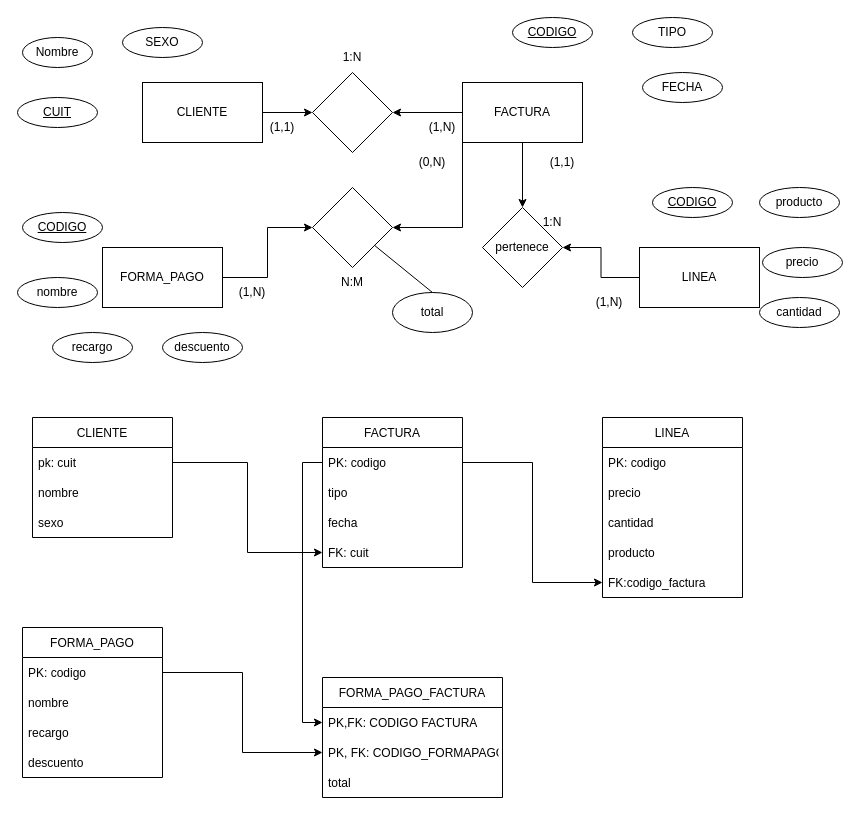
Some shapes in this 860 by 815 pixel diagram are drawn without their labels. Each missing label, with the centre of its shape:
"GENERA" belongs at (352,112).
"PAGADA" belongs at (352,227).
